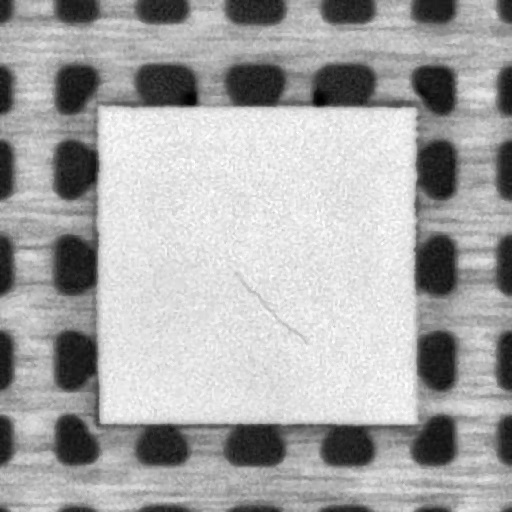DIE_CRACK: (234, 270, 305, 340)
